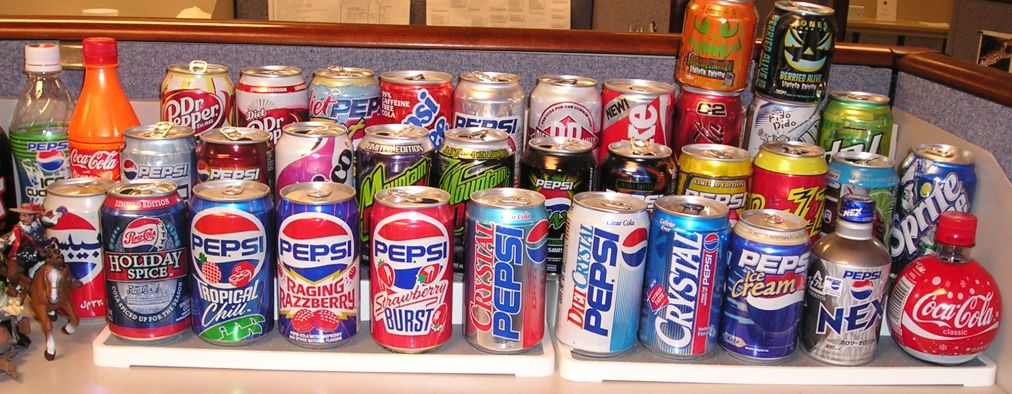can: (360, 173, 456, 351), (560, 173, 647, 364), (186, 173, 273, 346), (465, 181, 547, 364), (269, 181, 360, 342), (647, 203, 730, 364), (99, 181, 186, 333), (730, 225, 812, 364), (452, 68, 534, 160), (378, 64, 452, 146), (530, 64, 595, 151)
